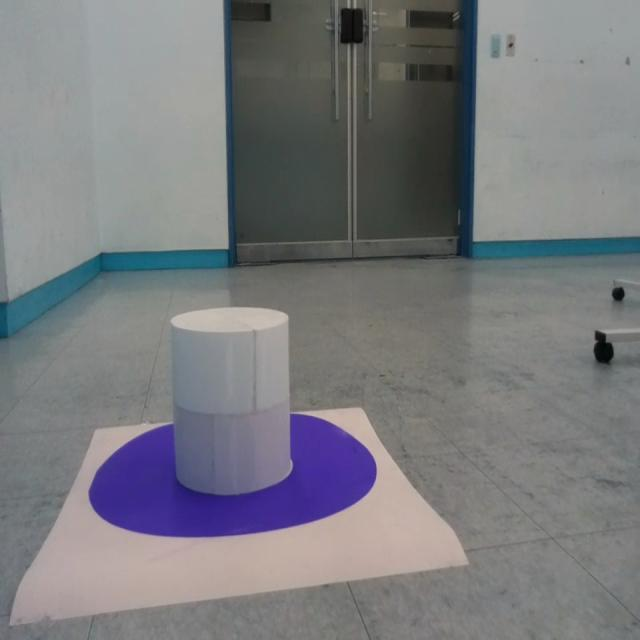cylinder: (170, 306, 291, 495)
